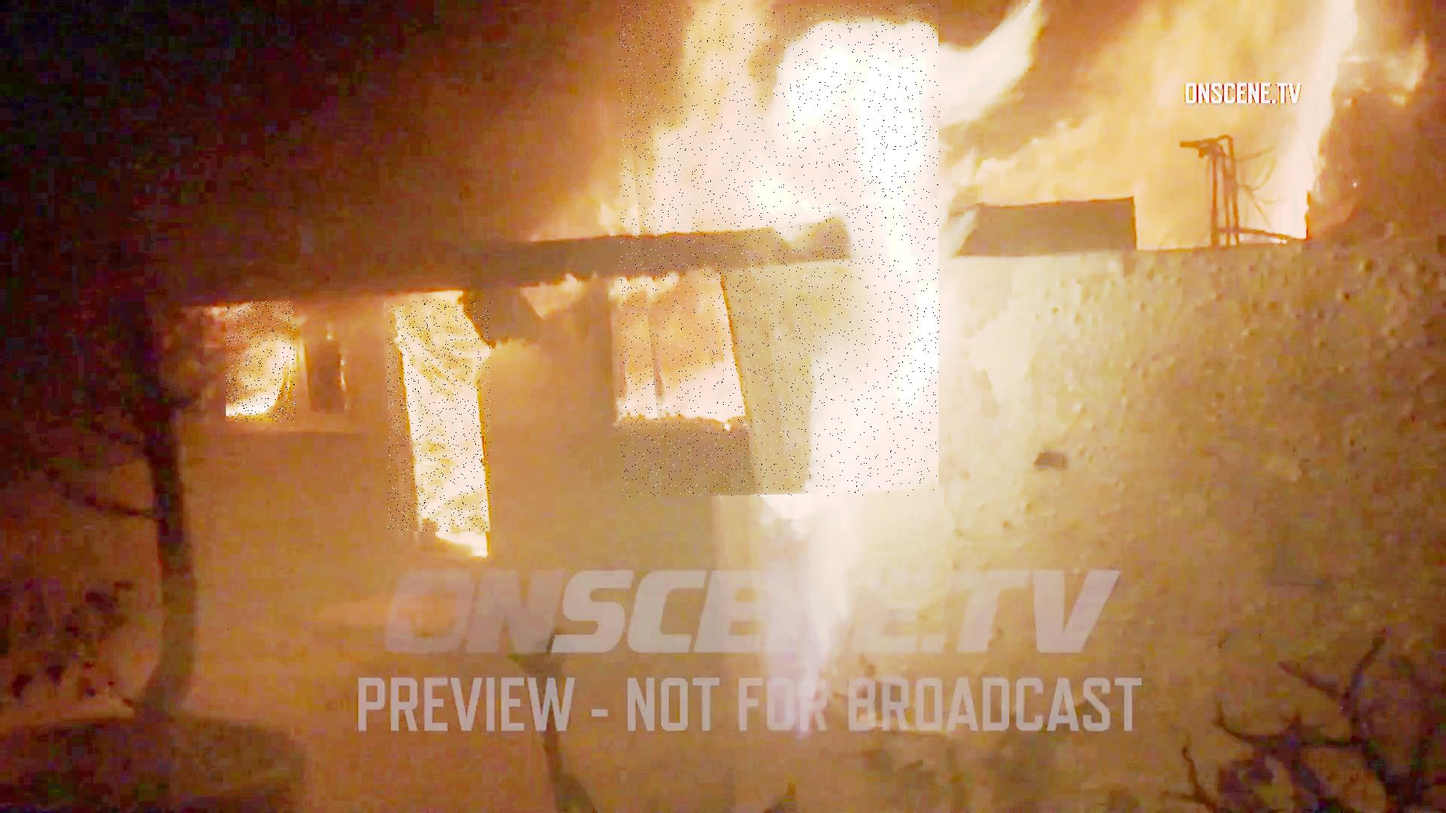fire: (620, 4, 941, 497), (388, 300, 490, 532), (227, 301, 296, 422)
